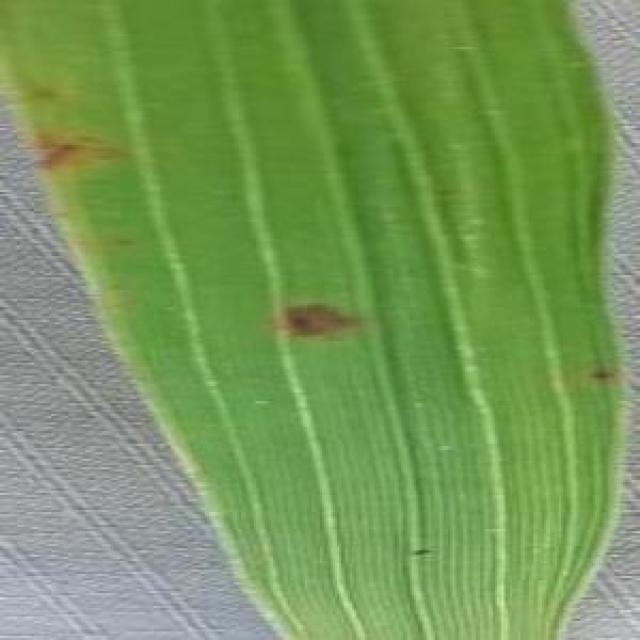Brown_Spot: (271, 298, 363, 336), (584, 359, 616, 389)
Rice_Blast: (26, 131, 76, 174)
